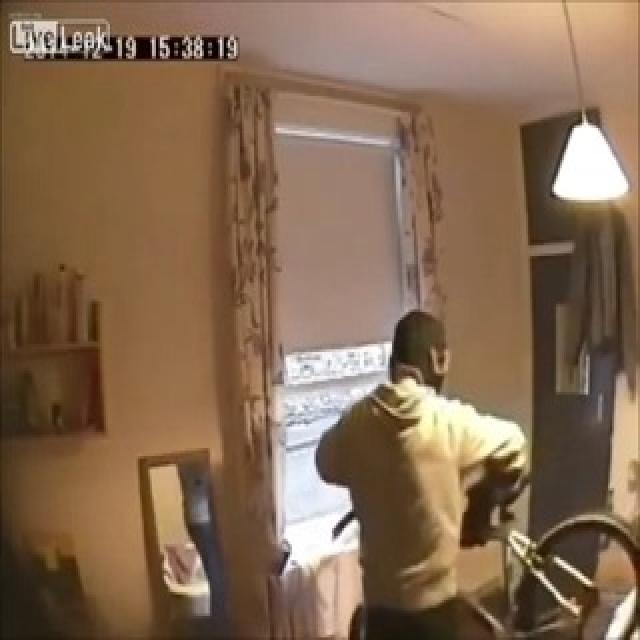thief: (377, 305, 463, 430)
